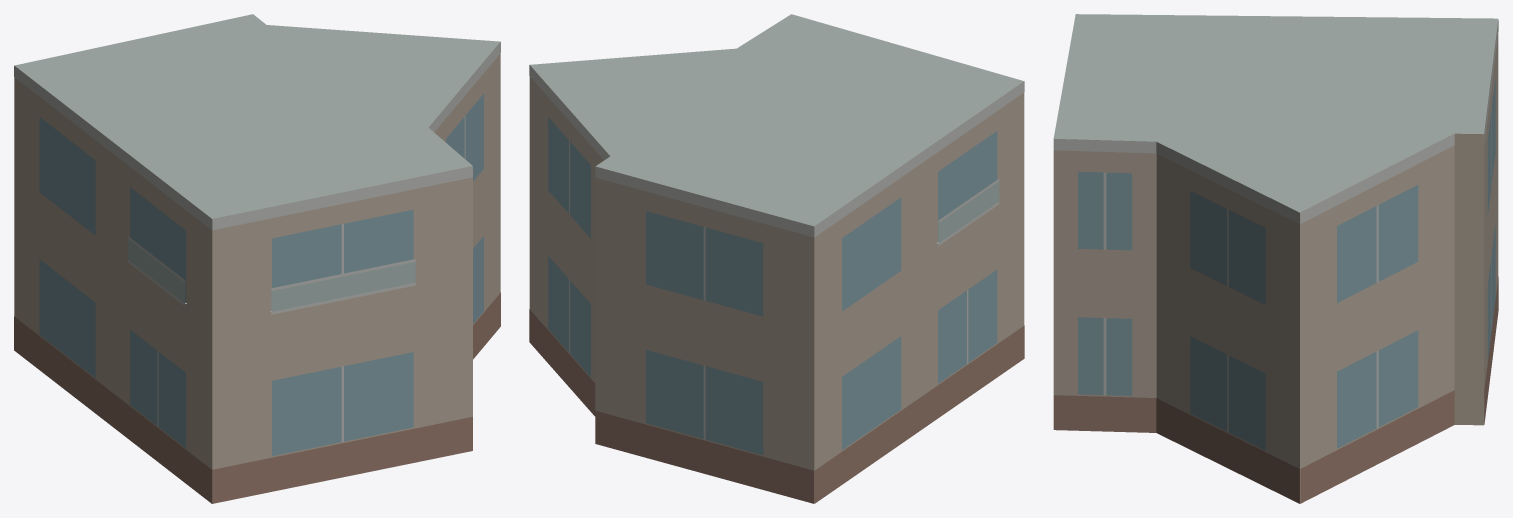
File: survey-upis-32870476.glb
3 views of the same model, side by side, from view 1: azimuth 30°, elevation 25°; view 2: azimuth 150°, elevation 25°; view 3: azimuth 270°, elevation 25° (orthographic). The views are drawn at different scales.
Parts seen in each view (by area): view 1: survey-upis-32870476.tmp; view 2: survey-upis-32870476.tmp; view 3: survey-upis-32870476.tmp.
Boxes of the visible parts, box(x1,y1,x2,y2) form: survey-upis-32870476.tmp: box(14, 14, 500, 503); survey-upis-32870476.tmp: box(529, 14, 1024, 503); survey-upis-32870476.tmp: box(1053, 14, 1498, 503).
Size of the model in its own units: 8.94 by 6.1 by 8.46.
